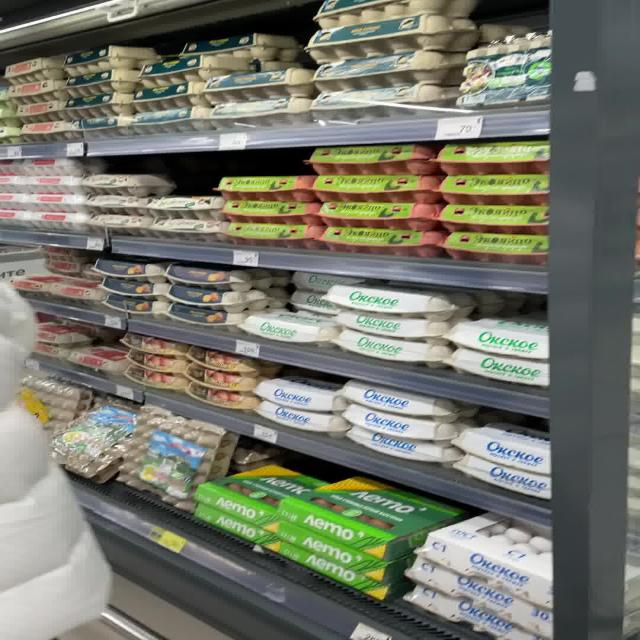egg box: (278, 471, 467, 555), (414, 508, 560, 593), (401, 555, 551, 636), (119, 403, 240, 497), (193, 459, 334, 523), (304, 16, 481, 65), (408, 582, 550, 638), (269, 523, 403, 579), (45, 403, 143, 478), (276, 541, 395, 602), (316, 46, 467, 94), (337, 376, 482, 420), (327, 280, 475, 320), (450, 421, 553, 473), (342, 401, 471, 442), (334, 326, 454, 368), (346, 423, 466, 465), (326, 304, 449, 343), (450, 452, 552, 499), (441, 344, 549, 388), (450, 312, 549, 360), (309, 0, 478, 28), (306, 142, 438, 176), (436, 138, 550, 176), (238, 307, 338, 348), (250, 398, 353, 436), (252, 372, 347, 413), (205, 68, 313, 102), (162, 260, 287, 289), (220, 94, 314, 132), (139, 58, 250, 90), (193, 502, 272, 545), (321, 202, 442, 230), (315, 175, 440, 202), (439, 175, 549, 205), (321, 229, 443, 256), (181, 34, 300, 61), (61, 44, 159, 76), (168, 282, 287, 307), (444, 205, 549, 233), (444, 235, 552, 262), (489, 34, 527, 105), (215, 175, 311, 203), (134, 104, 216, 134), (185, 360, 261, 391), (132, 82, 212, 111), (64, 68, 138, 98), (194, 348, 276, 374), (223, 222, 314, 245), (459, 44, 491, 108), (162, 303, 246, 327), (524, 30, 550, 106), (87, 173, 174, 195), (20, 155, 103, 178), (224, 201, 318, 221), (66, 92, 130, 121), (12, 210, 92, 233), (121, 330, 191, 356), (10, 271, 77, 298), (126, 345, 189, 373), (124, 362, 186, 390), (72, 345, 132, 373), (152, 196, 224, 219), (188, 383, 253, 408), (154, 220, 225, 242), (2, 57, 57, 85), (91, 257, 168, 277), (74, 114, 132, 140), (17, 192, 91, 212), (34, 321, 92, 345), (18, 176, 86, 196), (104, 276, 168, 297), (10, 80, 64, 104), (108, 296, 171, 316), (95, 215, 159, 234), (55, 282, 108, 304), (17, 101, 67, 123), (92, 196, 154, 212), (20, 123, 74, 141)
